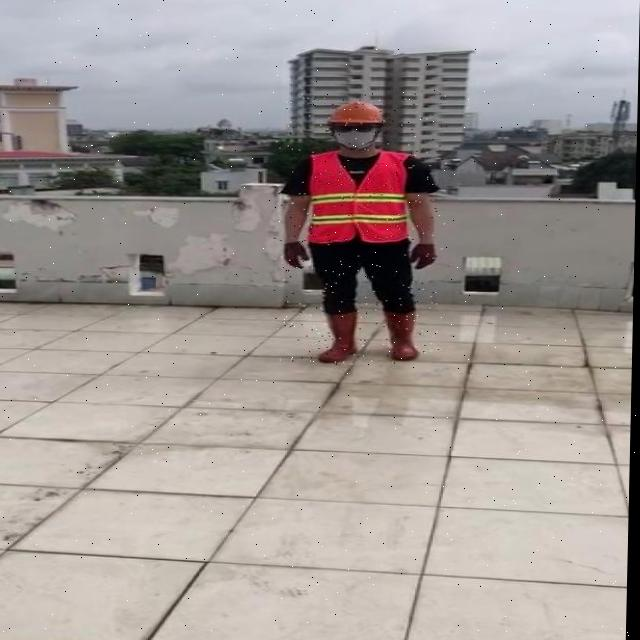Gloves: (285, 240, 312, 269), (412, 243, 439, 269)
Helmet: (328, 99, 387, 152)
Safety-Boot: (321, 308, 361, 363), (385, 309, 422, 360)
Safety-Vest: (308, 149, 415, 244)
